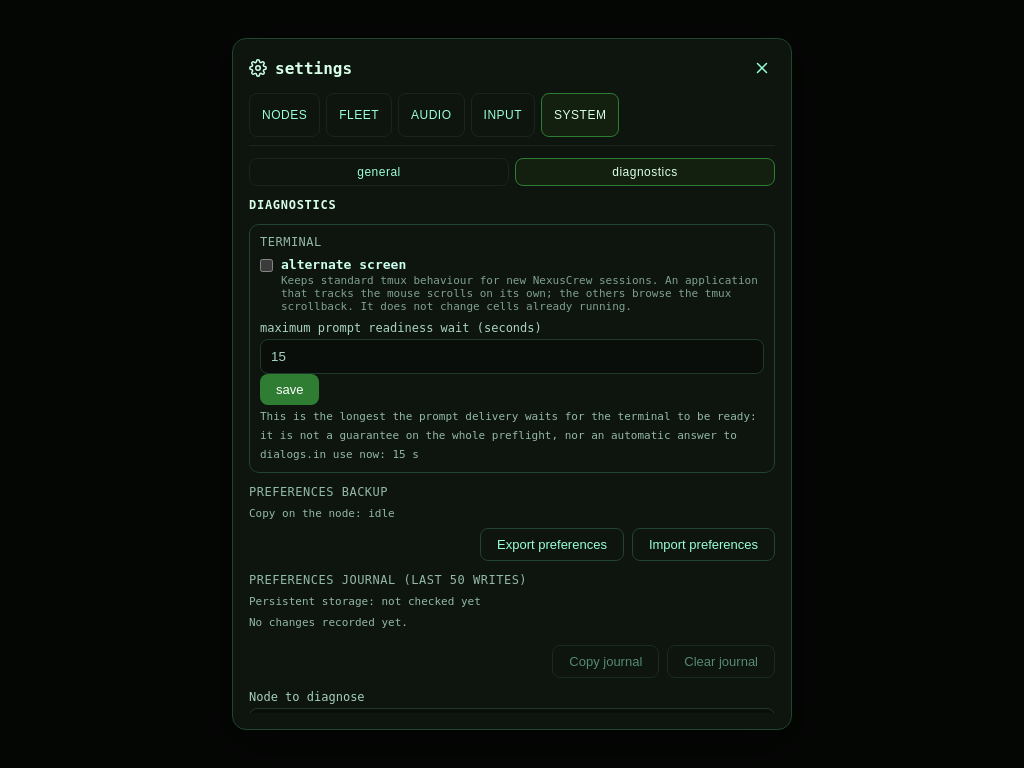
Scenario: attesa di prontezza: il campo nella sezione Terminale › un 200 senza applicazione dice «salvato, non applicato», mai «applicato»
The width and height of the screenshot is (1024, 768).
Replace the text in the field labelled "maximum prompt readiness wait (seconds)" with "60" at {"x": 512, "y": 357}, box [260,339,764,374]
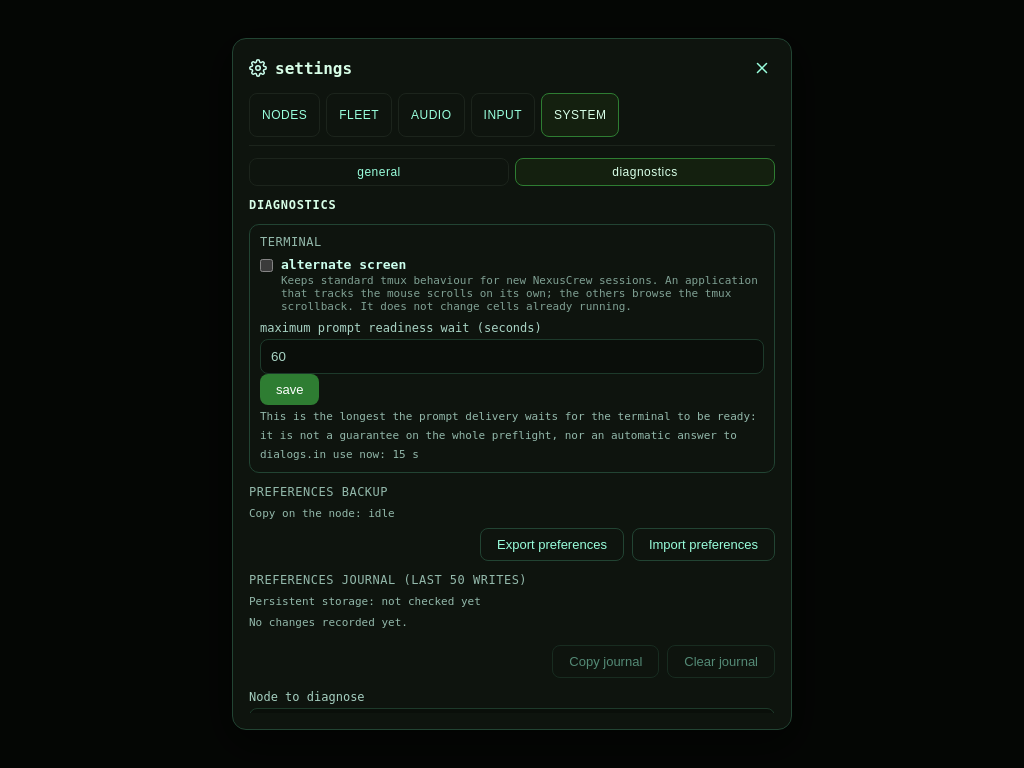
Click the button "save" at {"x": 290, "y": 390}, box [260,374,320,405]
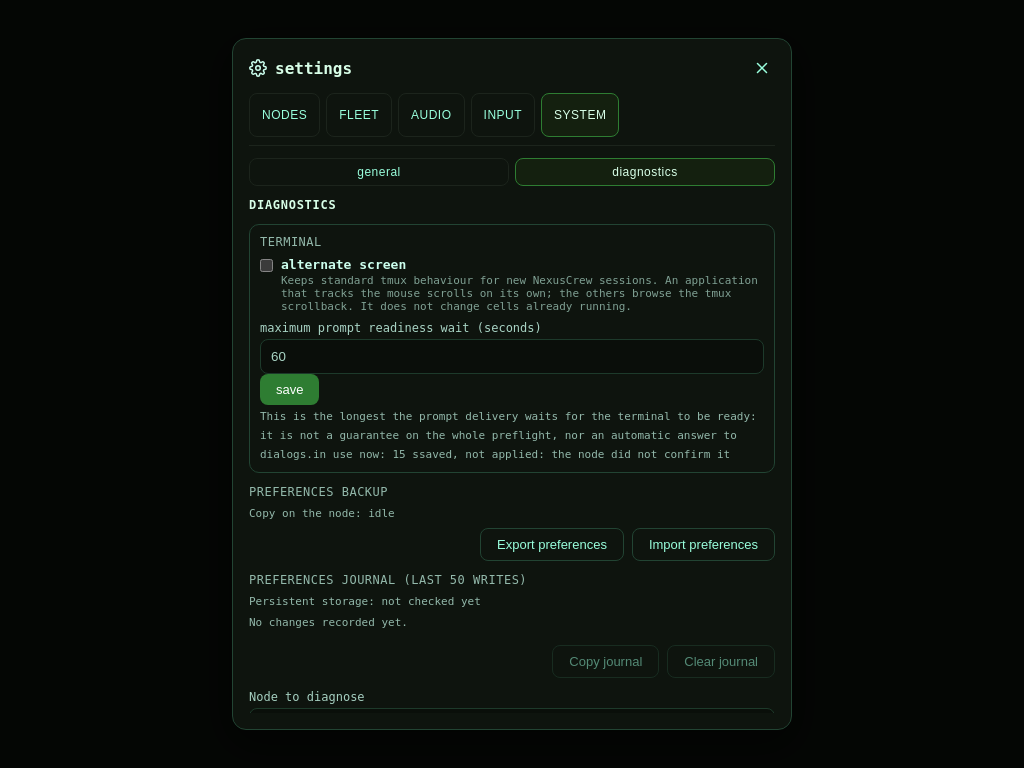
Expected: the text "saved, not applied: the node did not confirm it" is shown, [419,448,730,461]
